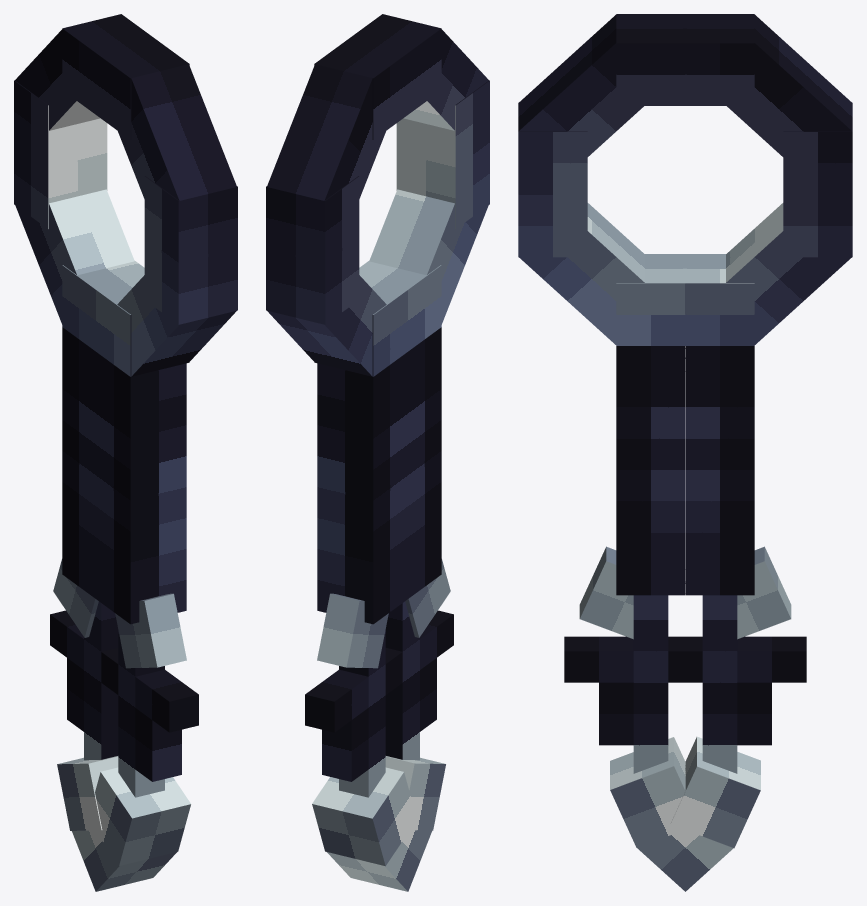
The model's file is key.gltf.
The picture shows the model from 3 angles, left to right: view 1: azimuth 30°, elevation 25°; view 2: azimuth 150°, elevation 25°; view 3: azimuth 270°, elevation 25°; orthographic projection.
Visible parts, largest first — view 1: cube (×22); view 2: cube (×22); view 3: cube (×22).
Part boxes in pixels (x1,y1,x2,y2): cube (×22): (14, 14, 237, 891); cube (×22): (266, 14, 489, 891); cube (×22): (518, 14, 852, 891).
Bounding box in the file's own units: 0.1297 × 1.69 × 0.6036.
Materials: 1 (1 with a texture image).
